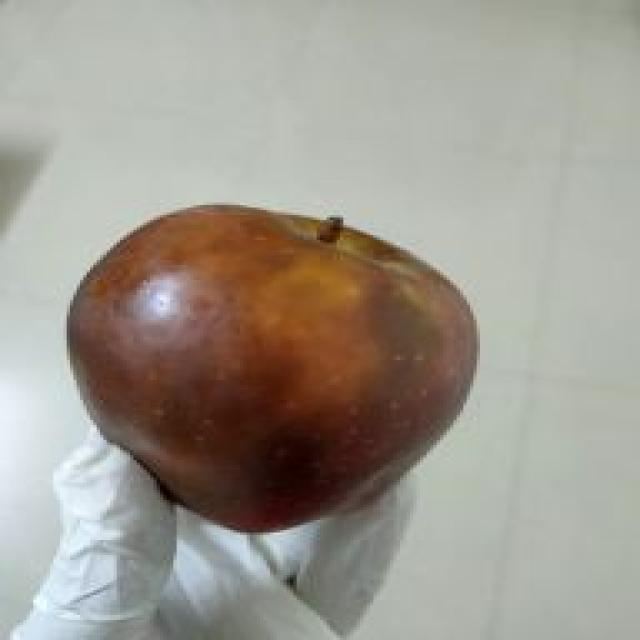Rotten_Apple: (66, 195, 490, 527)
